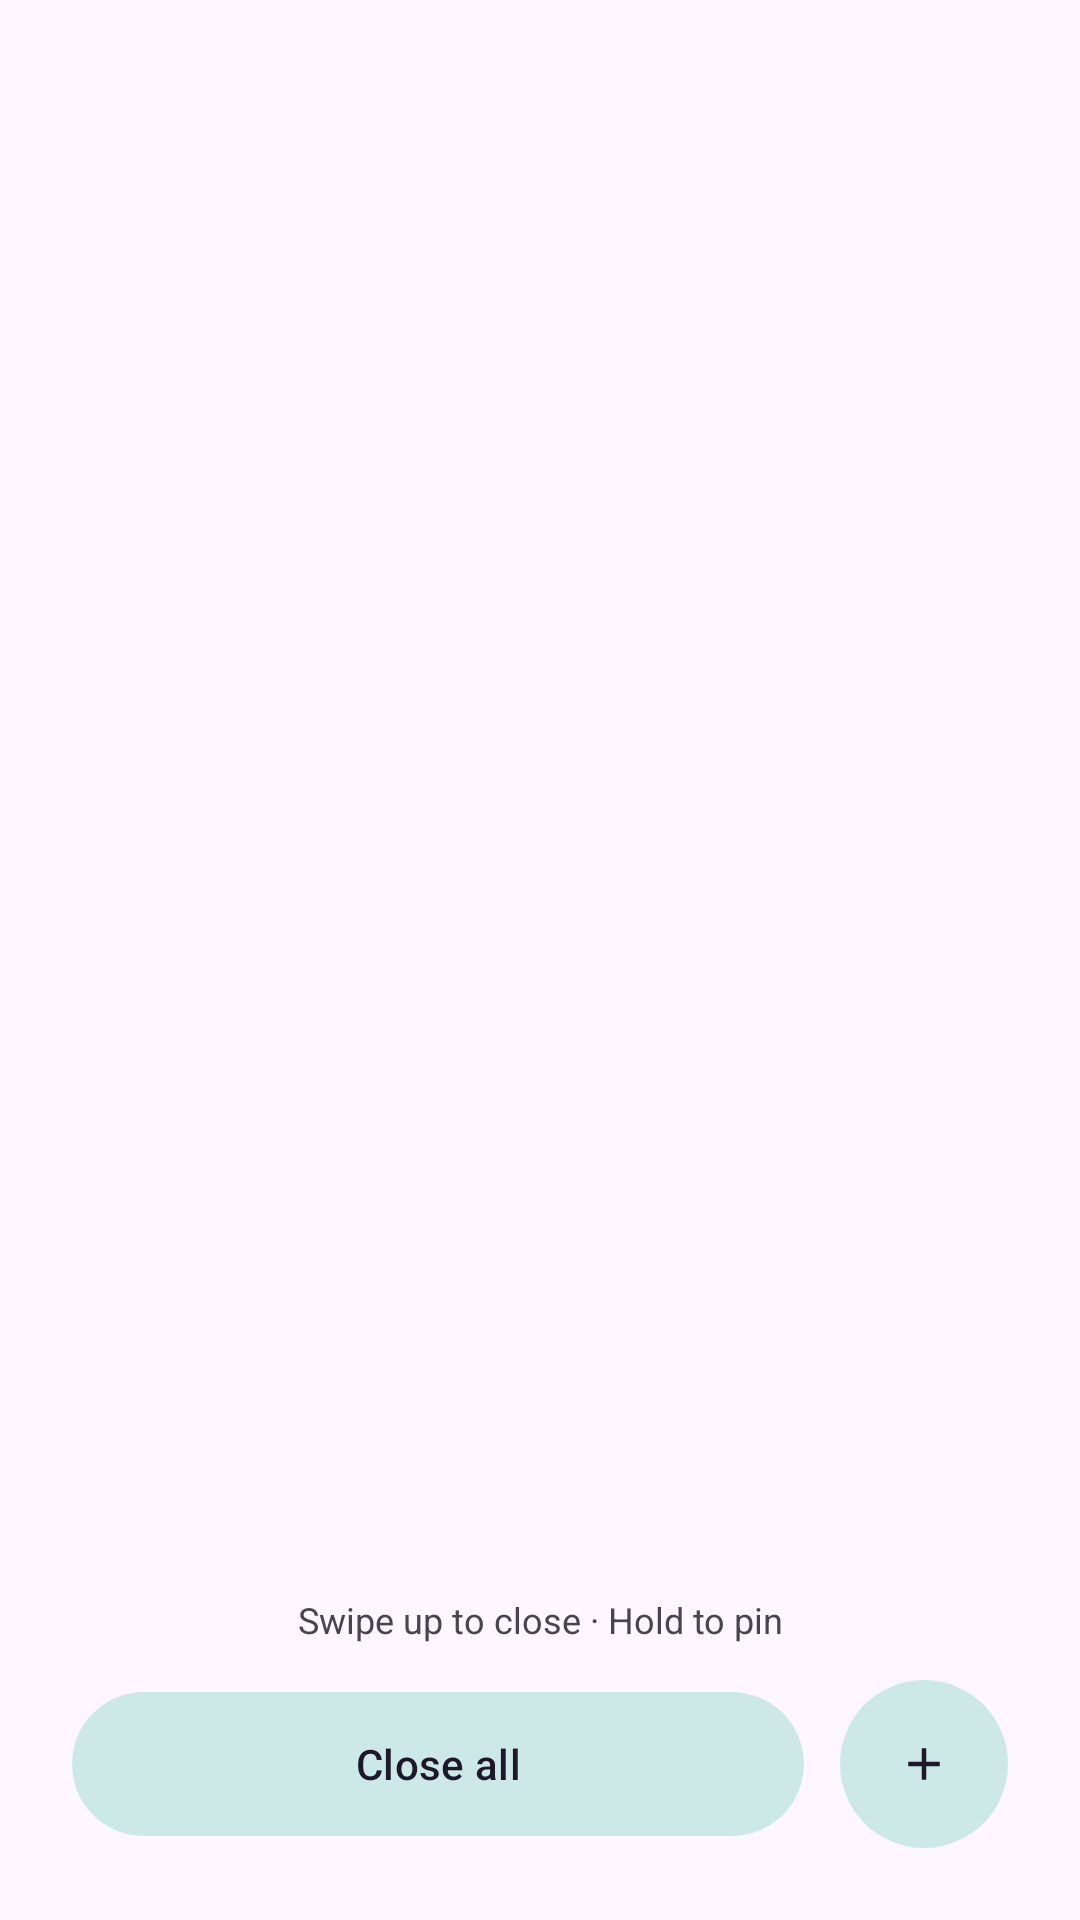

Where to tap for icons on this 1080x1920 app screen, as [x,y]:
New tab: [924,1764]
